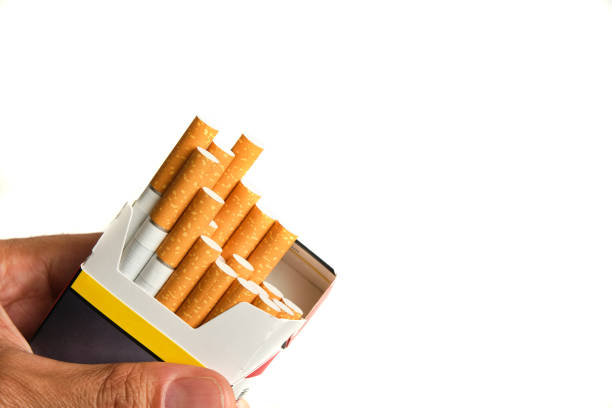cigarette: (28, 200, 337, 404), (118, 143, 218, 281), (122, 114, 219, 251), (134, 184, 226, 297), (154, 235, 222, 312), (177, 259, 238, 328), (204, 178, 261, 245), (209, 132, 264, 198), (247, 219, 299, 286), (222, 203, 278, 260), (203, 278, 257, 325), (205, 139, 236, 170), (229, 253, 255, 277), (254, 298, 281, 317), (273, 299, 295, 320), (260, 282, 284, 300), (284, 298, 303, 319), (250, 279, 270, 296), (200, 219, 217, 237), (215, 255, 226, 264)
